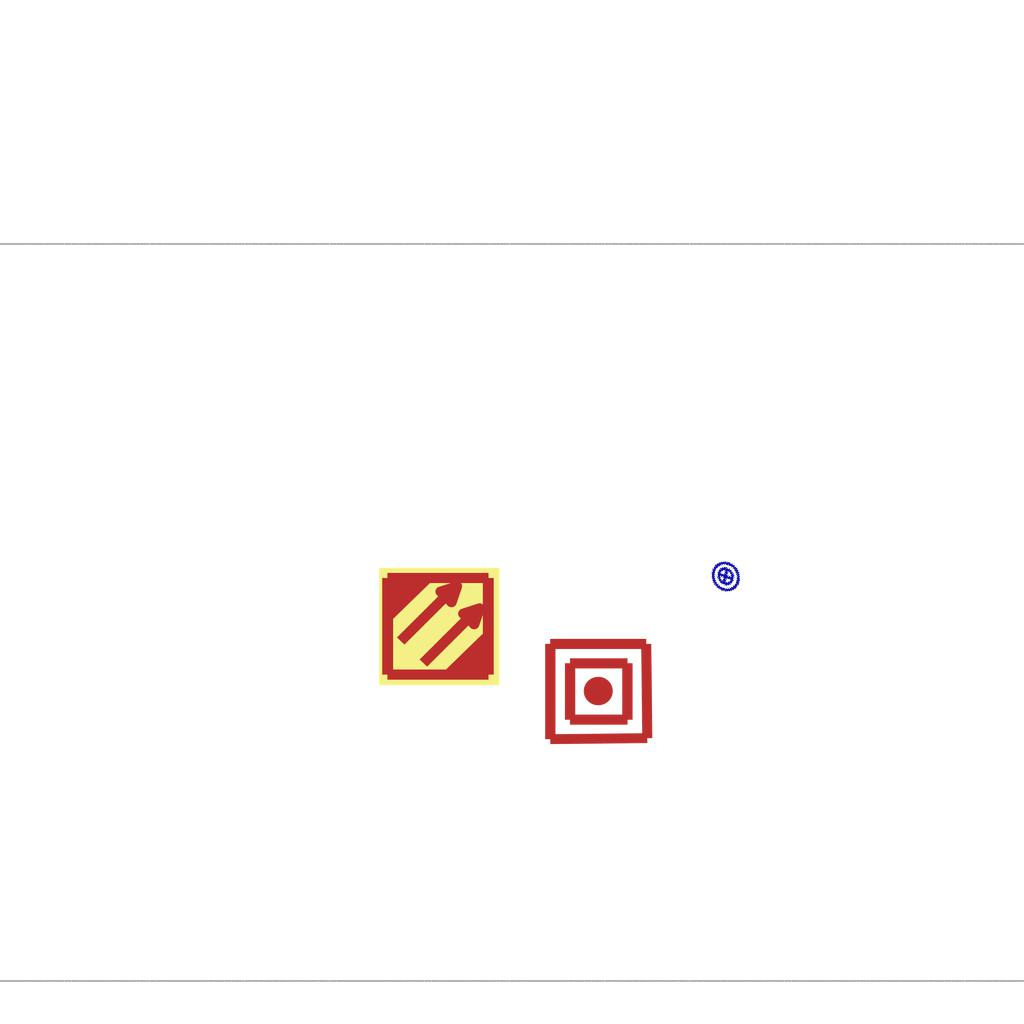ASR_Ansaugrauchmelder: (377, 564, 502, 689)
NAM-Nichtautomatischer_Melder: (542, 635, 655, 748)
Taster_beleuchtet: (703, 554, 748, 599)
